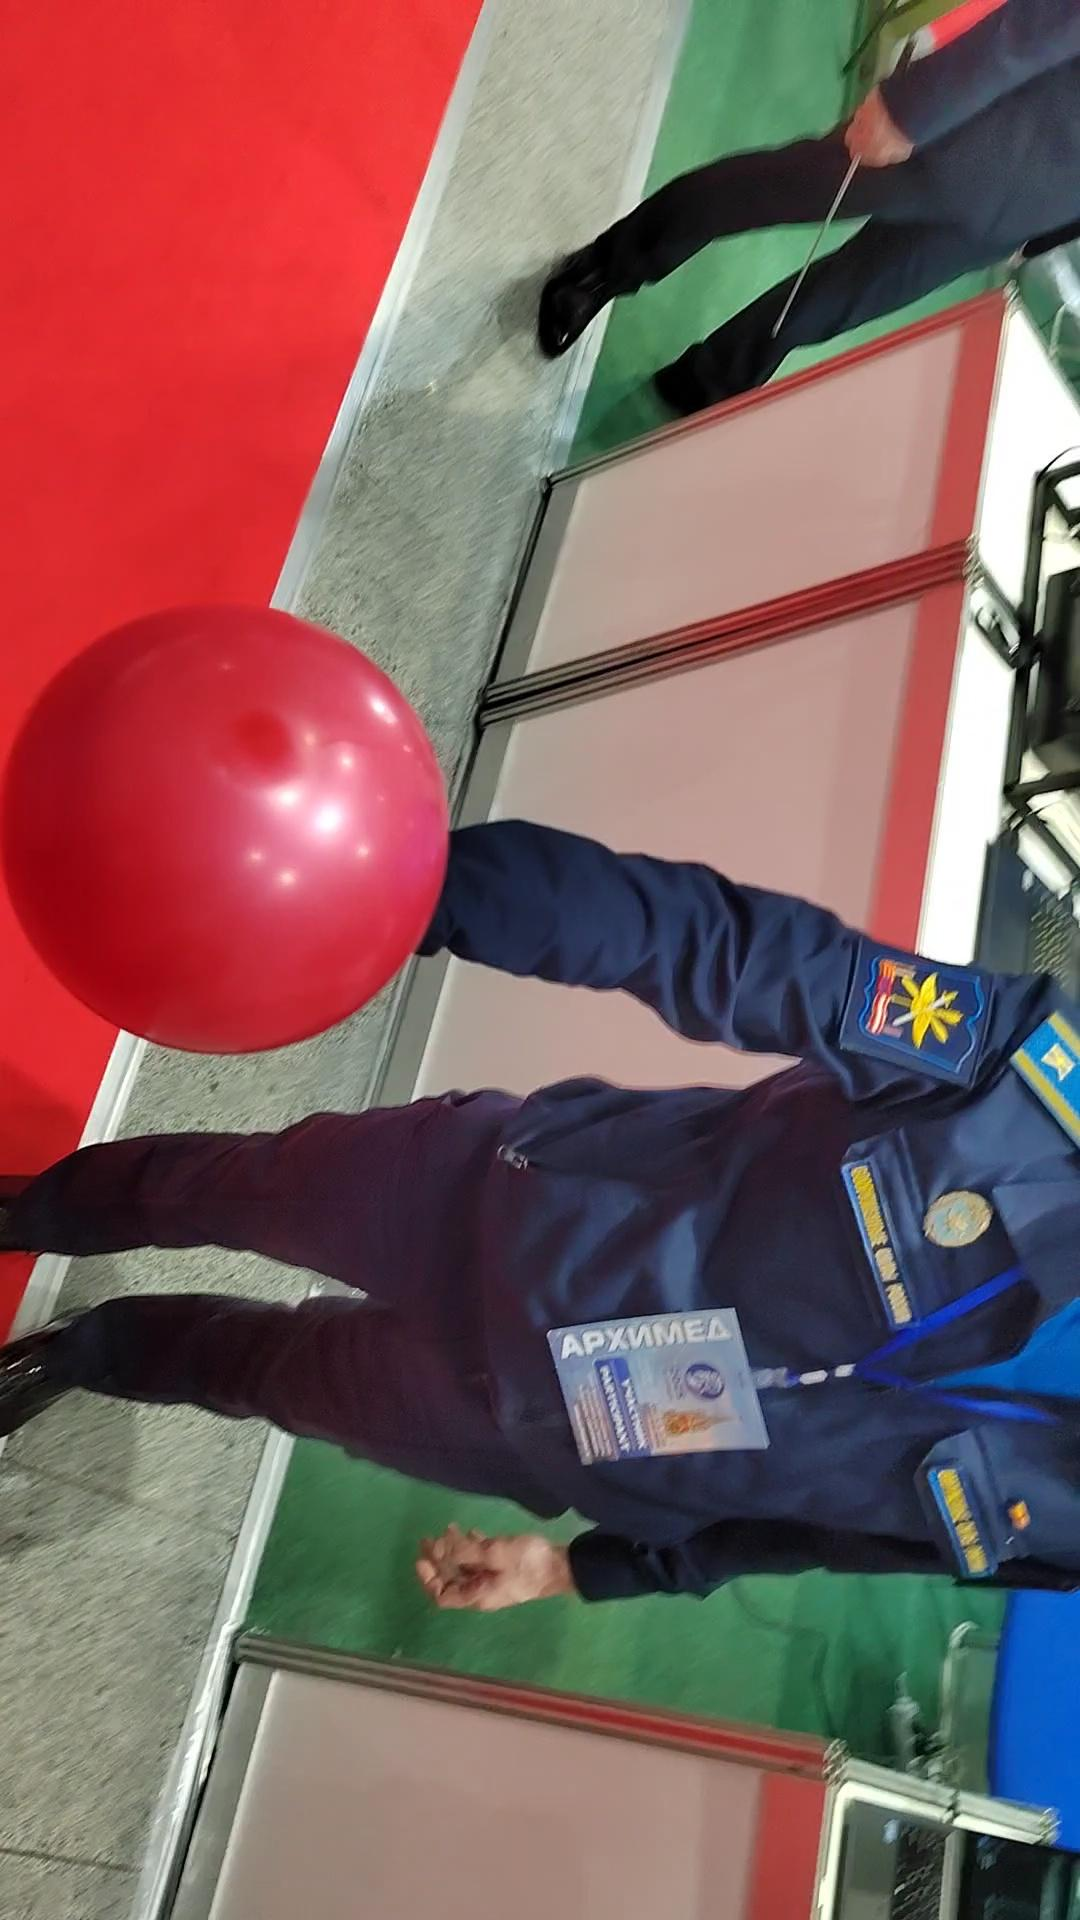red: (0, 596, 463, 1058)
